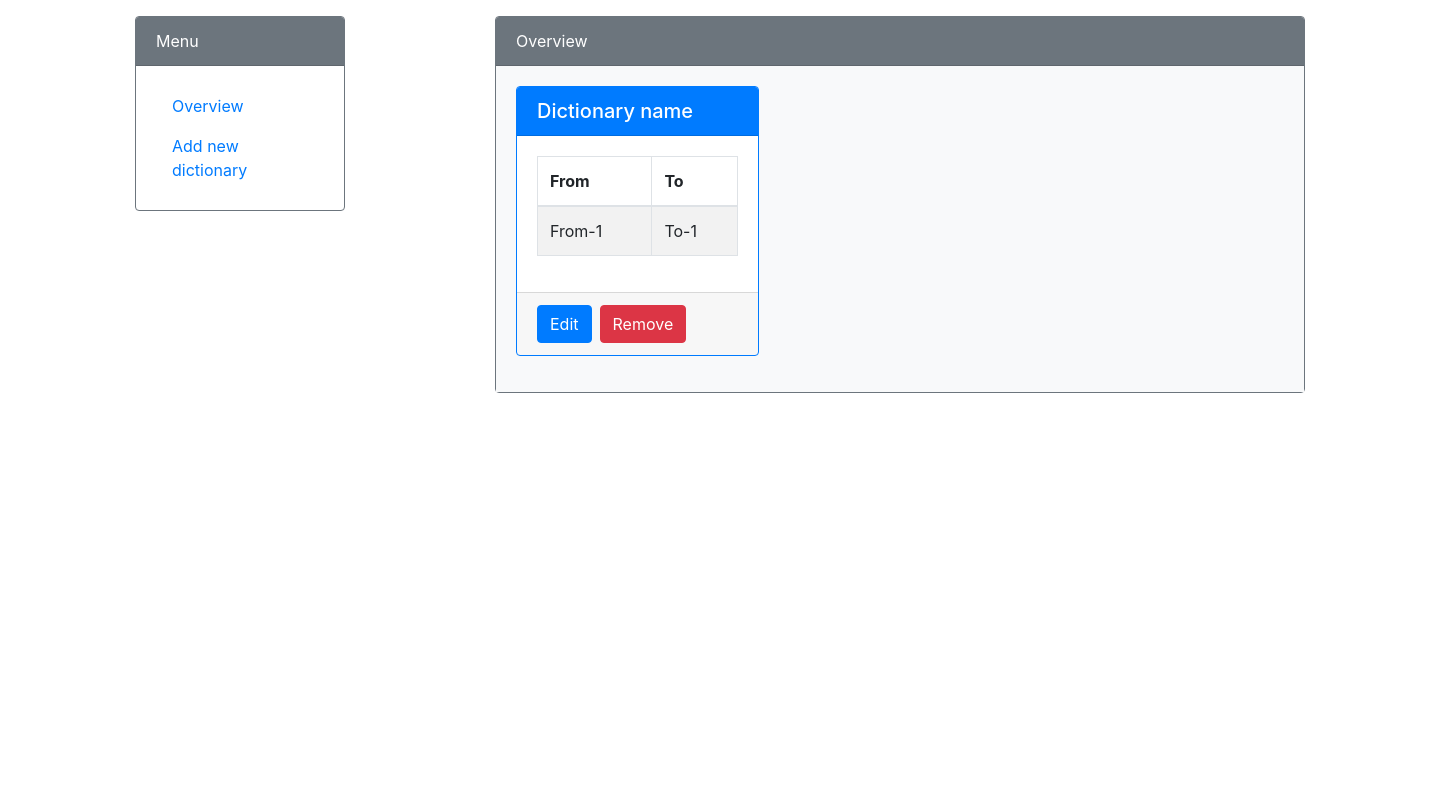
Testing Overview component › Should display confirmation before removing and remove dictionary after confirmation
The width and height of the screenshot is (1440, 810).
Click the button "Remove" at (643, 324), box [600,305,686,343]
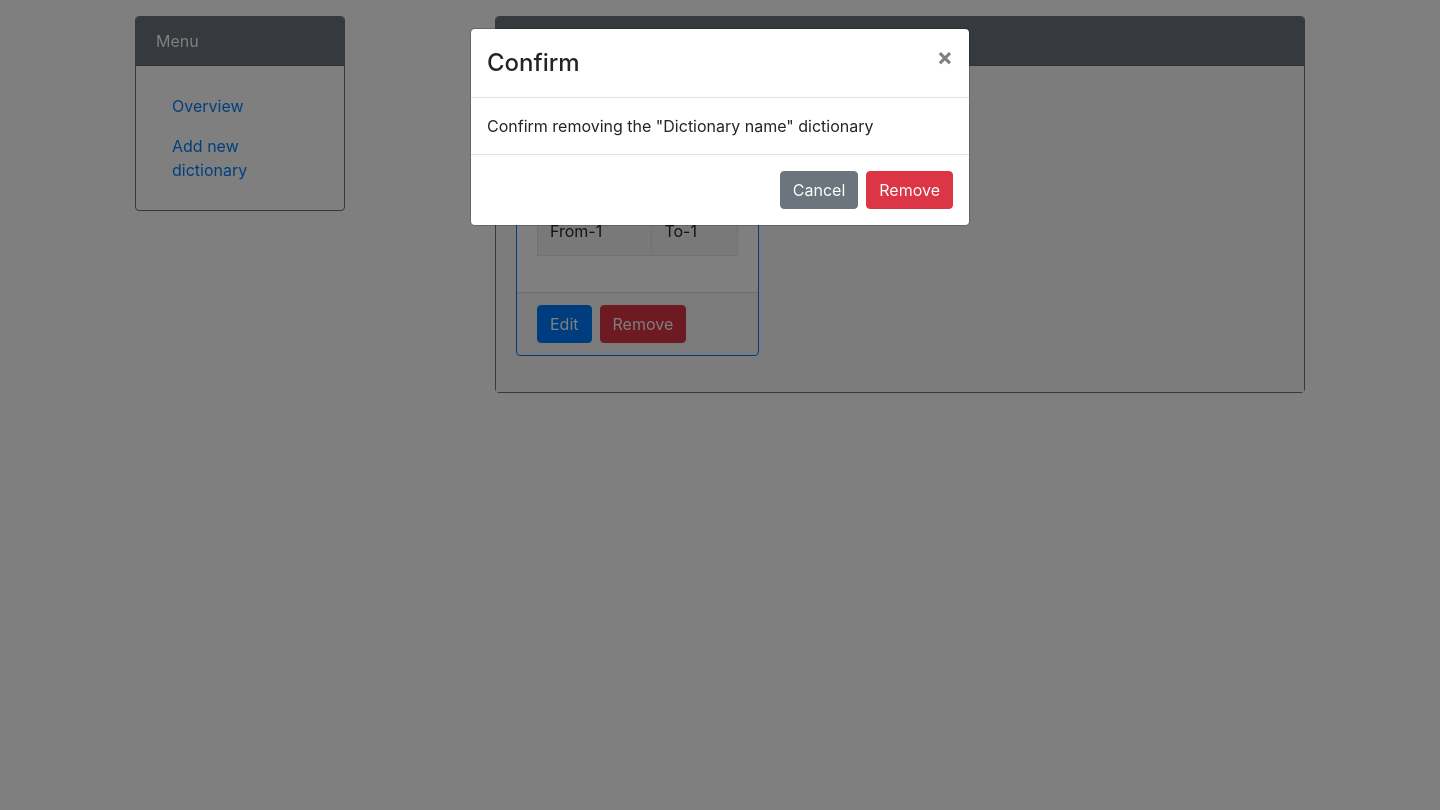
Click the button "Remove" at (910, 190), box [866,171,953,209]
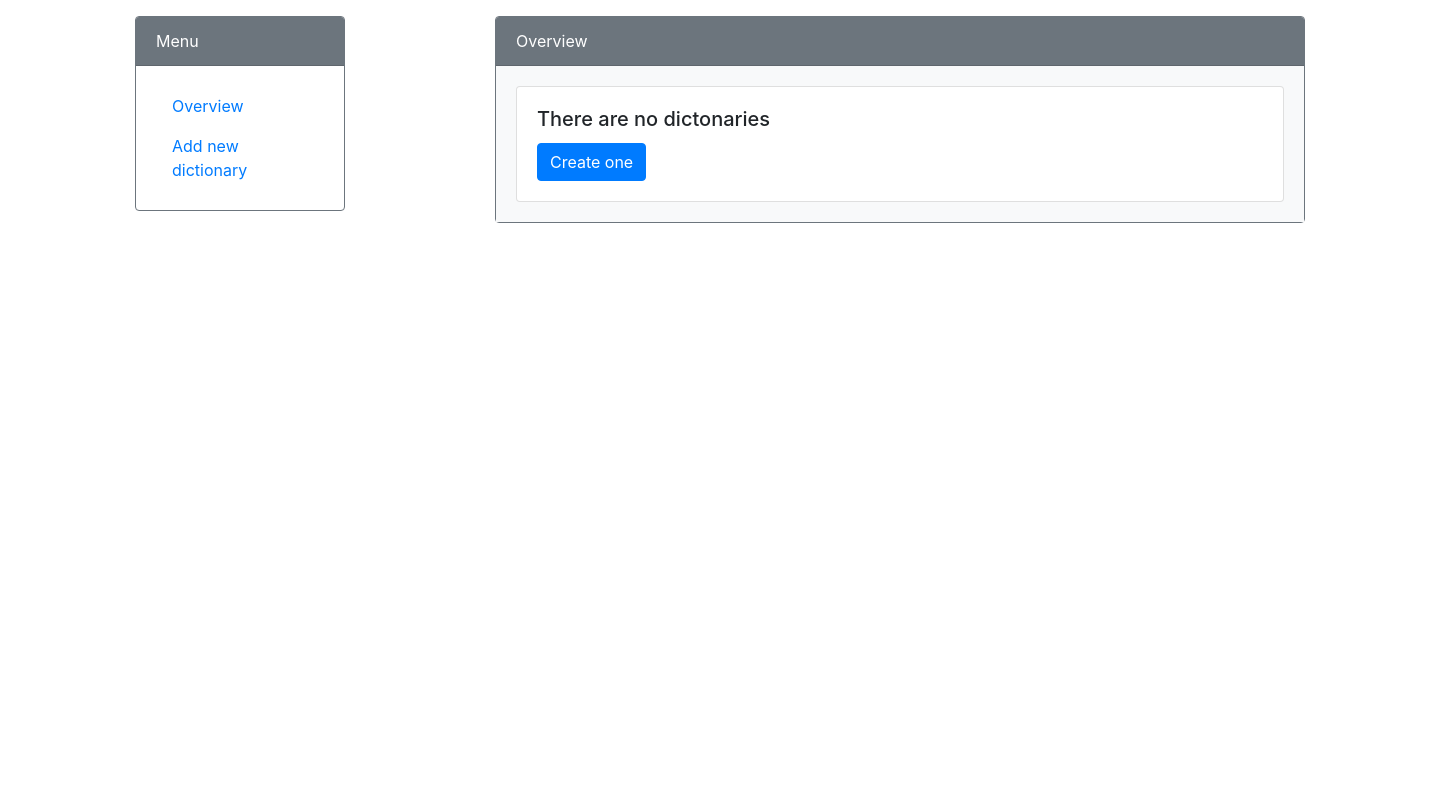
Now the text "There are no dictonaries" is shown, box [537,107,770,131]
